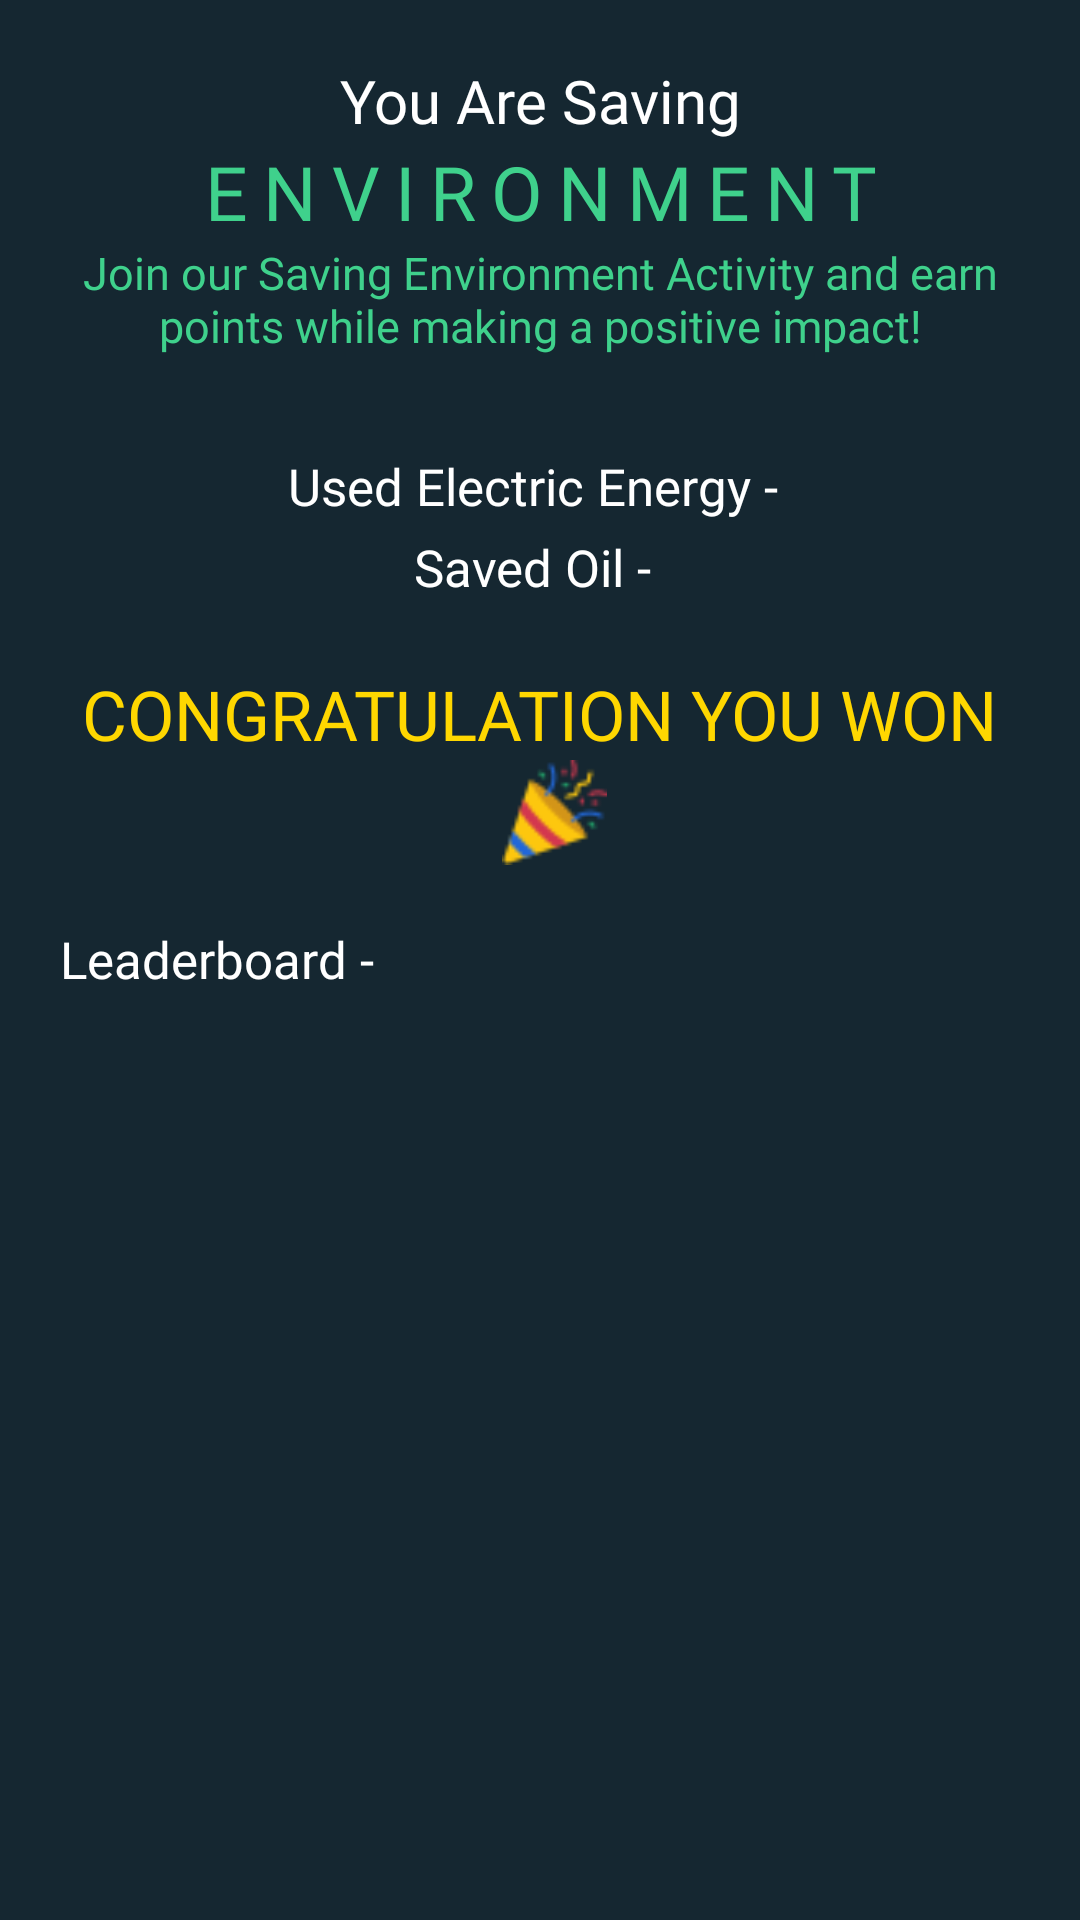

Where to tap for icons on this 1080x1920 app screen, as (x,y):
party: (554,812)
